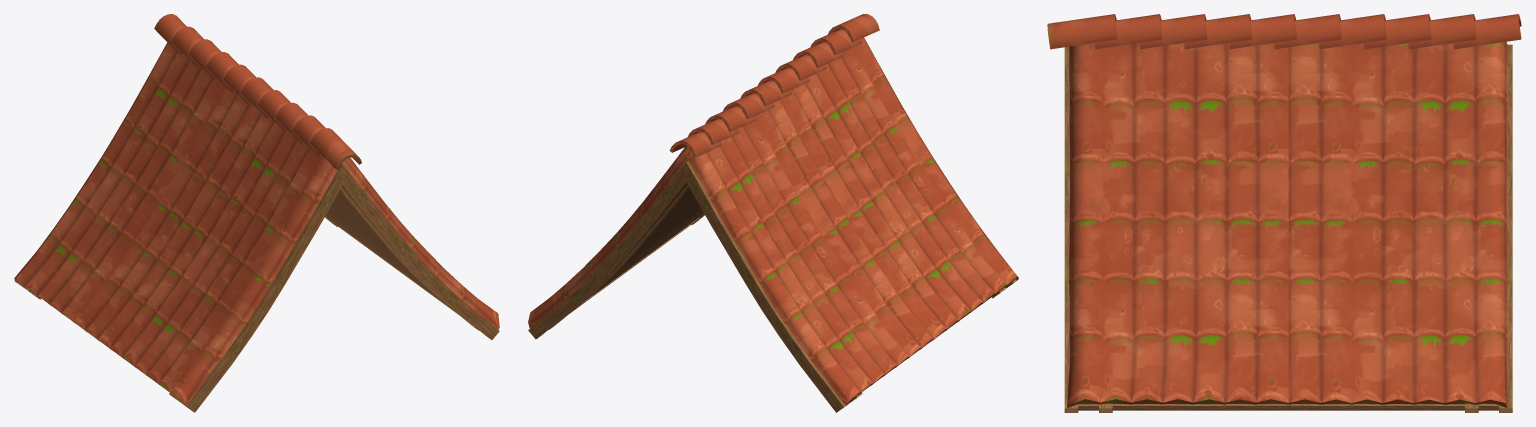
The model's file is Roof_RoundTiles_6x6.glb.
The picture shows the model from 3 angles, left to right: view 1: azimuth 30°, elevation 25°; view 2: azimuth 150°, elevation 25°; view 3: azimuth 270°, elevation 25°; orthographic projection. The views are drawn at different scales.
Visible parts, largest first — view 1: Roof_RoundTiles_6x6; view 2: Roof_RoundTiles_6x6; view 3: Roof_RoundTiles_6x6.
Boxes of the visible parts, x1,y1,x2,y2 form: Roof_RoundTiles_6x6: [14, 14, 499, 412]; Roof_RoundTiles_6x6: [528, 14, 1018, 412]; Roof_RoundTiles_6x6: [1047, 14, 1521, 412].
Bounding box in the file's own units: 8.25 × 5.67 × 8.03.
Materials: 2 (2 with a texture image).
